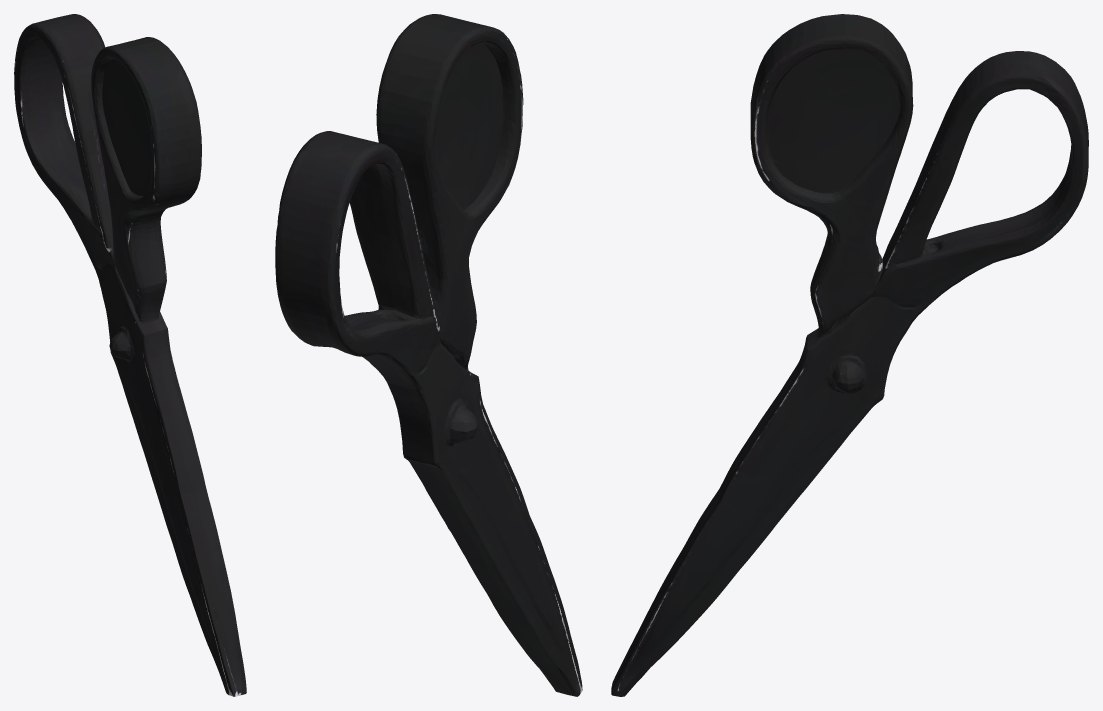
3 renders of one model, left to right at view 1: azimuth 30°, elevation 25°; view 2: azimuth 150°, elevation 25°; view 3: azimuth 270°, elevation 25°, orthographic. The views are drawn at different scales.
Parts seen in each view (by area): view 1: scissors_48.obj; view 2: scissors_48.obj; view 3: scissors_48.obj.
Part boxes in pixels (x1,y1,x2,y2): scissors_48.obj: (14, 14, 246, 696); scissors_48.obj: (275, 14, 582, 696); scissors_48.obj: (611, 14, 1088, 696).
Size of the model in its own units: 0.00995 by 0.1 by 0.0649.
1 material, 1 textured.
